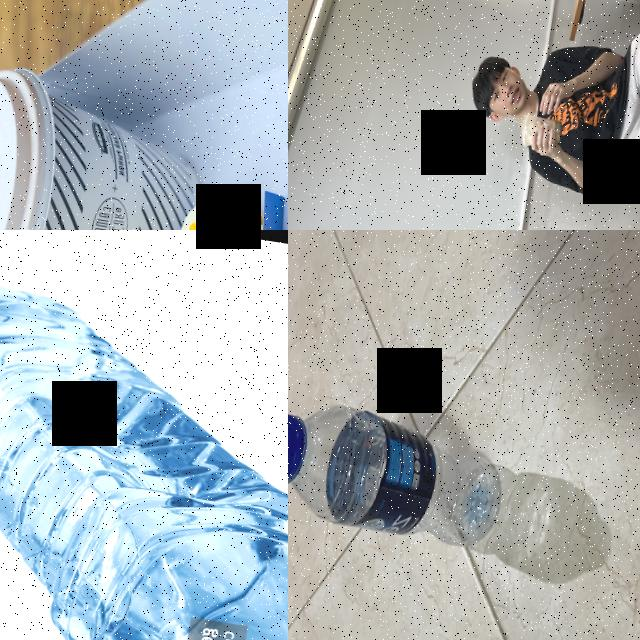bottle: (0, 265, 288, 640), (288, 389, 523, 570)
cup: (0, 53, 223, 230), (518, 110, 562, 152)
